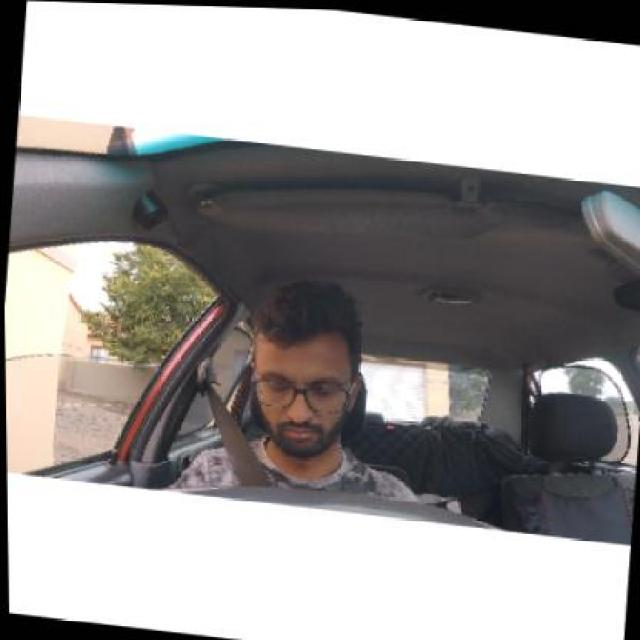drowsy: (242, 278, 370, 464)
